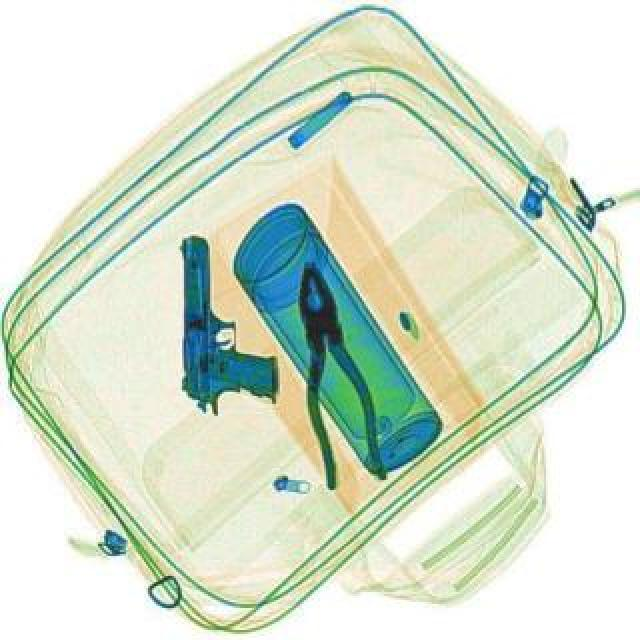gun: (180, 234, 280, 414)
wrench: (276, 250, 390, 490)
